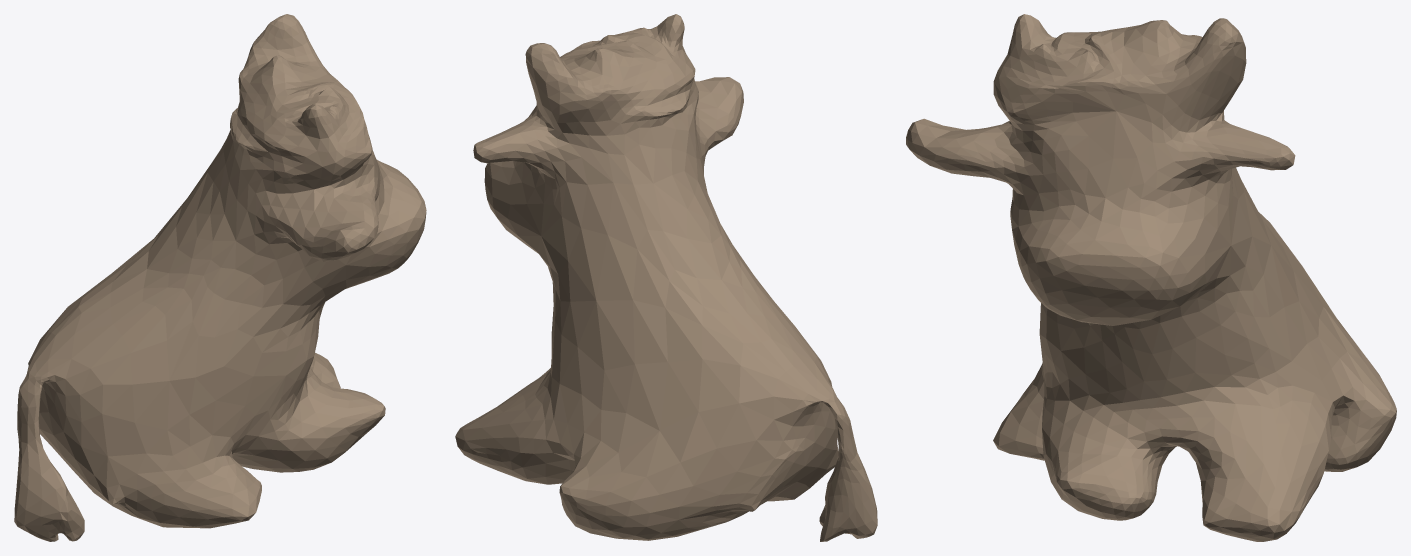
File: cow.dae
3 renders of one model, left to right at view 1: azimuth 30°, elevation 25°; view 2: azimuth 150°, elevation 25°; view 3: azimuth 270°, elevation 25°, orthographic. The views are drawn at different scales.
Parts seen in each view (by area): view 1: Mesh1_ORITGT01_Model; view 2: Mesh1_ORITGT01_Model; view 3: Mesh1_ORITGT01_Model.
Part boxes in pixels (x1,y1,x2,y2): Mesh1_ORITGT01_Model: (14, 14, 426, 541); Mesh1_ORITGT01_Model: (455, 14, 877, 541); Mesh1_ORITGT01_Model: (906, 14, 1396, 541).
Size of the model in its own units: 2.2 by 1.98 by 2.42.
